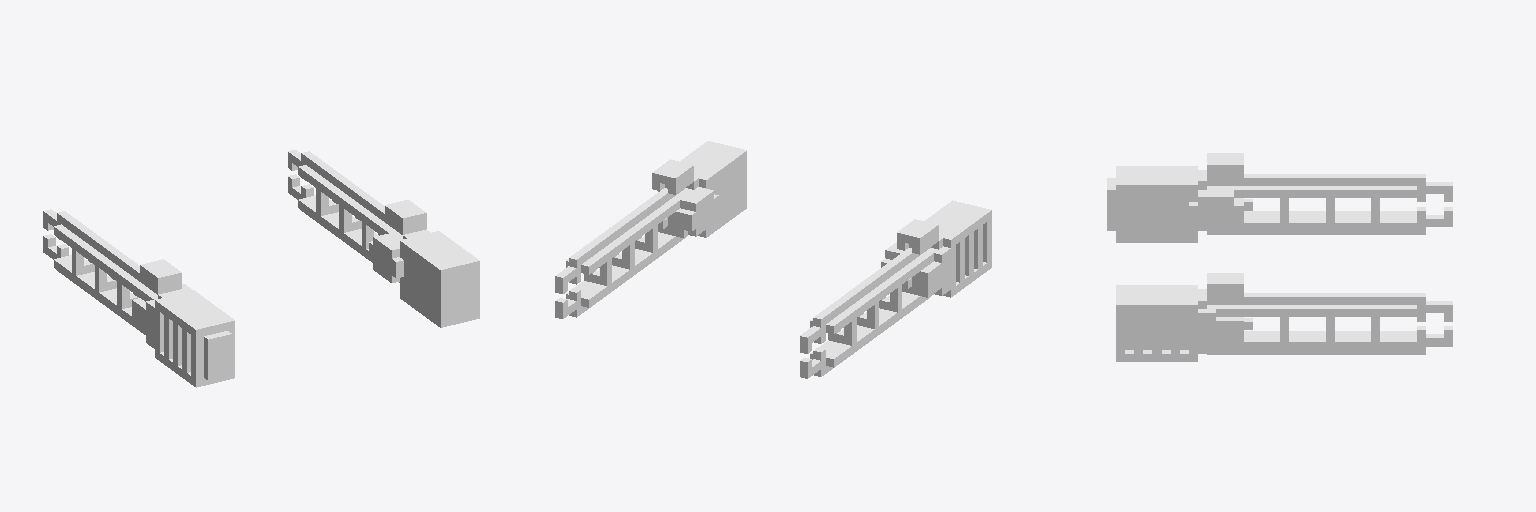
Rendered from PlasmaGun.obj.
3 views of the same model, side by side, from view 1: azimuth 30°, elevation 25°; view 2: azimuth 150°, elevation 25°; view 3: azimuth 270°, elevation 25° (orthographic).
Visible parts, largest first — view 1: object 1; view 2: object 1; view 3: object 1.
Part boxes in pixels (x1,y1,x2,y2): object 1: (43, 150, 479, 387); object 1: (555, 141, 991, 378); object 1: (1107, 153, 1452, 361).
Bounding box in the file's own units: 3.6 × 0.9 × 3.8.